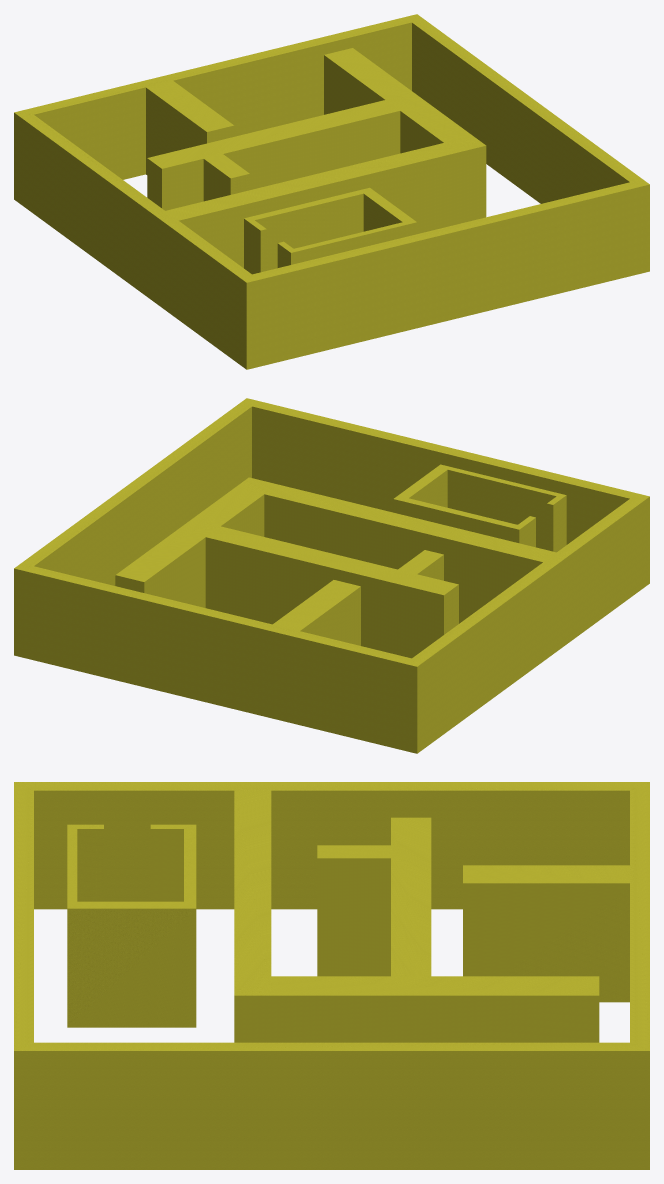
File: Level9.obj
3 renders of one model, top to bottom at view 1: azimuth 30°, elevation 25°; view 2: azimuth 150°, elevation 25°; view 3: azimuth 270°, elevation 25°, orthographic. The views are drawn at different scales.
Visible parts, largest first — view 1: Rectangle02, Rectangle03, Rectangle07, Rectangle01, Rectangle04, Rectangle06, Rectangle08; view 2: Rectangle02, Rectangle07, Rectangle03, Rectangle01, Rectangle04, Rectangle06, Rectangle08; view 3: Rectangle02, Rectangle04, Rectangle01, Rectangle06, Rectangle08, Rectangle03, Rectangle07.
Boxes of the visible parts, left/top/right/bottom form: Rectangle02: left=14, top=14, right=649, bottom=369; Rectangle03: left=161, top=136, right=485, bottom=268; Rectangle07: left=147, top=100, right=400, bottom=210; Rectangle01: left=244, top=187, right=416, bottom=274; Rectangle04: left=324, top=48, right=486, bottom=216; Rectangle06: left=145, top=80, right=234, bottom=174; Rectangle08: left=199, top=150, right=249, bottom=201; Rectangle02: left=14, top=398, right=649, bottom=753; Rectangle07: left=203, top=524, right=458, bottom=658; Rectangle03: left=236, top=477, right=560, bottom=623; Rectangle01: left=393, top=464, right=566, bottom=552; Rectangle04: left=115, top=477, right=264, bottom=607; Rectangle06: left=271, top=580, right=360, bottom=645; Rectangle08: left=398, top=550, right=443, bottom=580; Rectangle02: left=14, top=782, right=649, bottom=1169; Rectangle04: left=234, top=976, right=599, bottom=1042; Rectangle01: left=67, top=824, right=196, bottom=1027; Rectangle06: left=463, top=865, right=633, bottom=1002; Rectangle08: left=317, top=845, right=404, bottom=976; Rectangle03: left=234, top=788, right=271, bottom=1042; Rectangle07: left=391, top=817, right=431, bottom=977.
Bounding box in the file's own units: 8 × 1.65 × 8.
